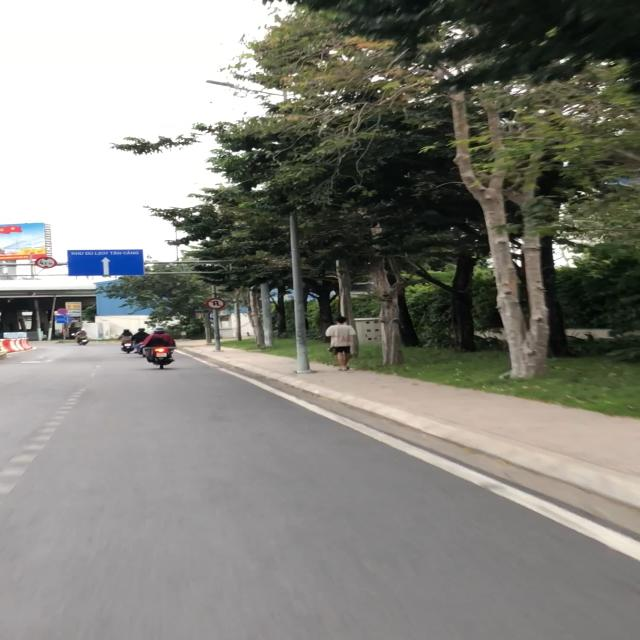Bien bao cam quay dau xe: (205, 297, 227, 309)
Bien bao han che chieu cao: (34, 256, 60, 270)
